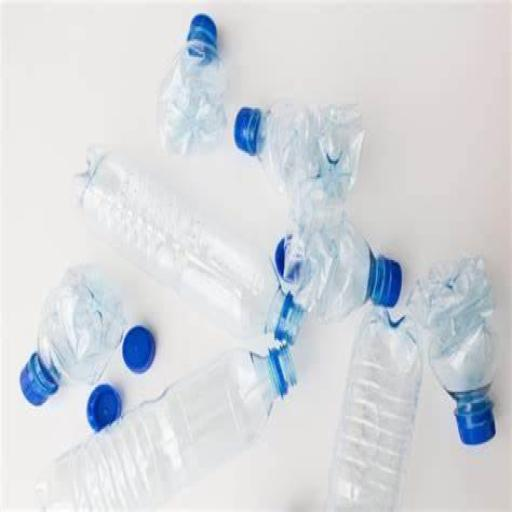plastic bottle: (72, 145, 306, 349), (37, 341, 298, 512), (324, 308, 425, 512), (410, 253, 502, 404), (256, 102, 363, 205), (36, 266, 126, 384), (280, 210, 374, 320), (156, 39, 228, 157)
plastic bottle cap: (86, 384, 122, 430), (122, 328, 156, 374), (457, 415, 495, 446), (233, 104, 256, 155), (277, 236, 301, 284), (20, 366, 48, 405), (191, 11, 218, 42), (386, 258, 402, 308)
